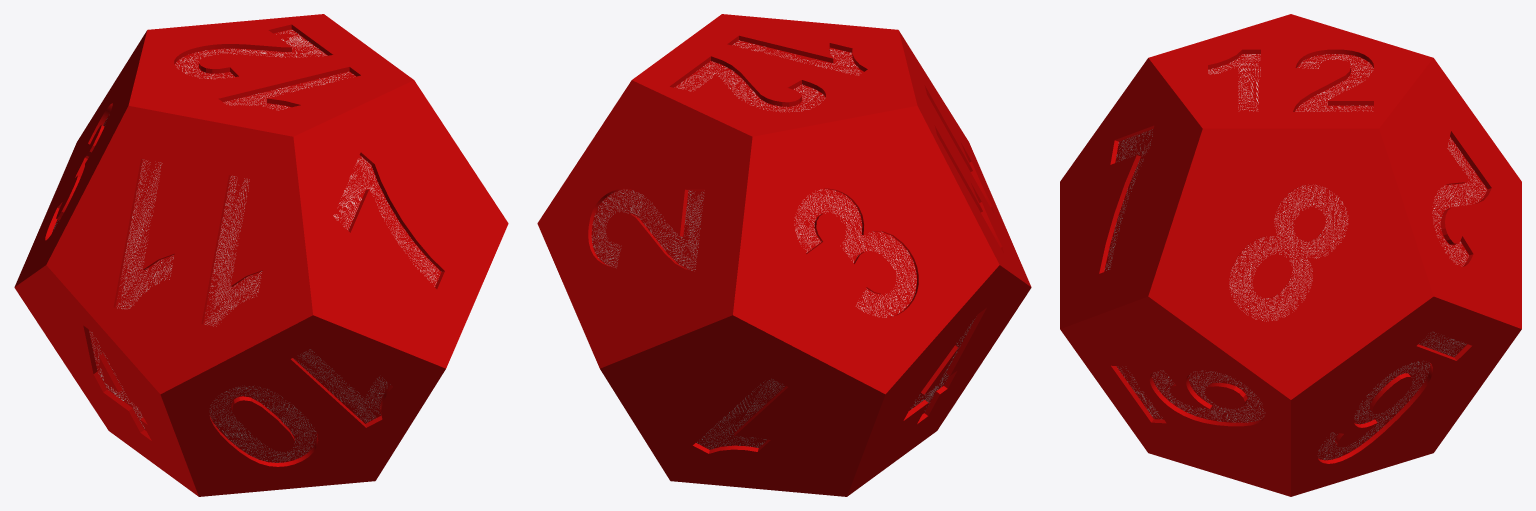
Rendered from Boardgame_D12_Red_01.fbx.
3 renders of one model, left to right at view 1: azimuth 30°, elevation 25°; view 2: azimuth 150°, elevation 25°; view 3: azimuth 270°, elevation 25°, orthographic. The views are drawn at different scales.
Visible parts, largest first — view 1: Model; view 2: Model; view 3: Model.
Boxes of the visible parts, x1=… form: Model: x1=14, y1=14, x2=508, y2=496; Model: x1=537, y1=14, x2=1031, y2=496; Model: x1=1060, y1=14, x2=1521, y2=496.
Bounding box in the file's own units: 229 × 185 × 218.
